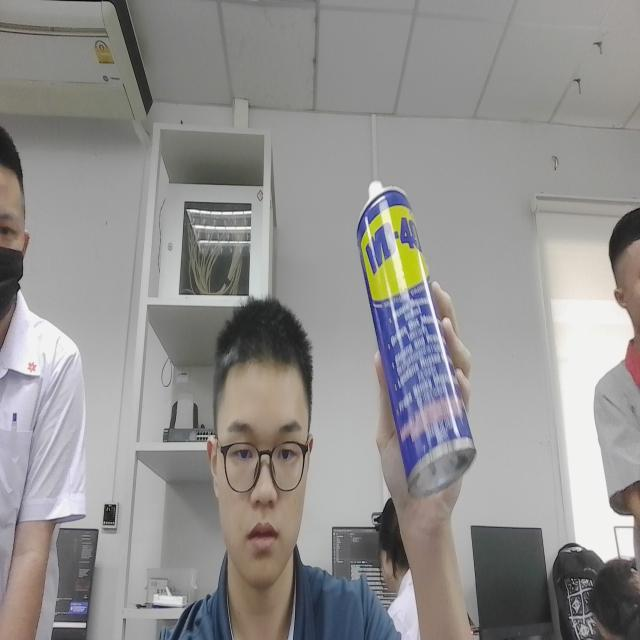wd-40: (342, 152, 491, 520)
